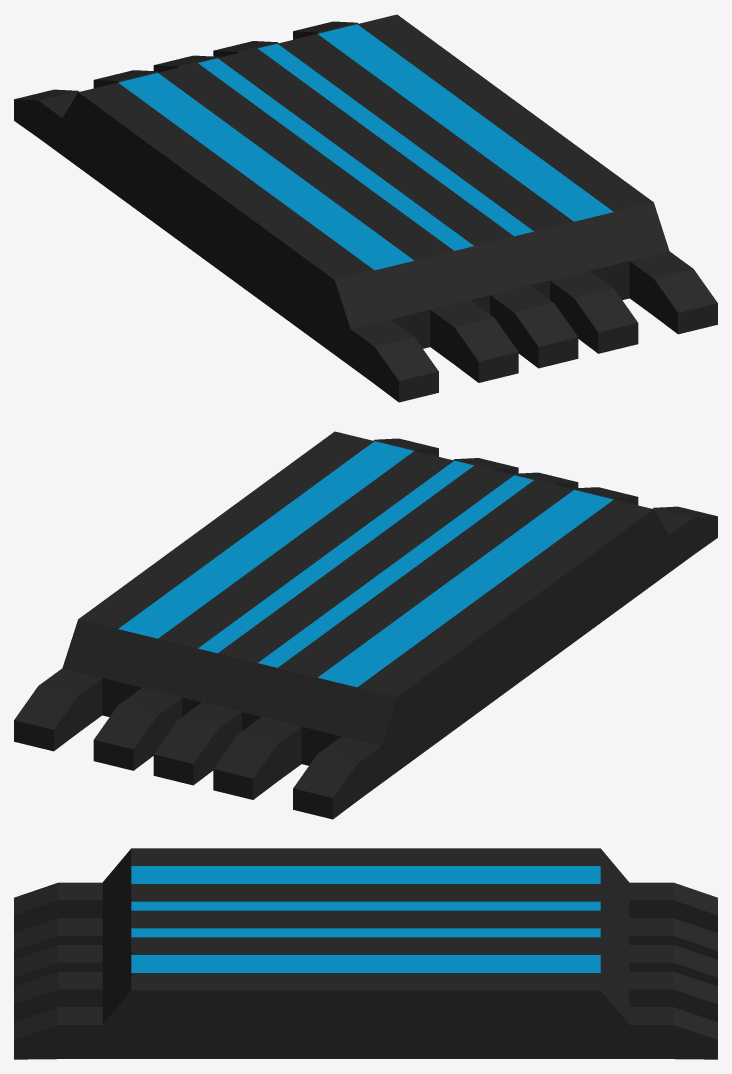
Rendered from FlatBuildNeon01.fbx.
The picture shows the model from 3 angles, top to bottom: view 1: azimuth 30°, elevation 25°; view 2: azimuth 150°, elevation 25°; view 3: azimuth 270°, elevation 25°; orthographic projection. The views are drawn at different scales.
Visible parts, largest first — view 1: FlatBuildNeon01; view 2: FlatBuildNeon01; view 3: FlatBuildNeon01.
Part boxes in pixels (left/top/right/bottom): FlatBuildNeon01: left=14, top=14, right=717, bottom=402; FlatBuildNeon01: left=14, top=431, right=717, bottom=819; FlatBuildNeon01: left=14, top=848, right=717, bottom=1059.
Size of the model in its own units: 1.86 by 0.4203 by 3.89.
